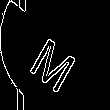M_NE: (27, 21, 83, 89)
